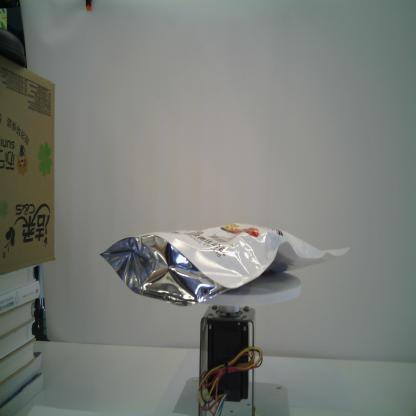Dried Food: (99, 220, 351, 310)
